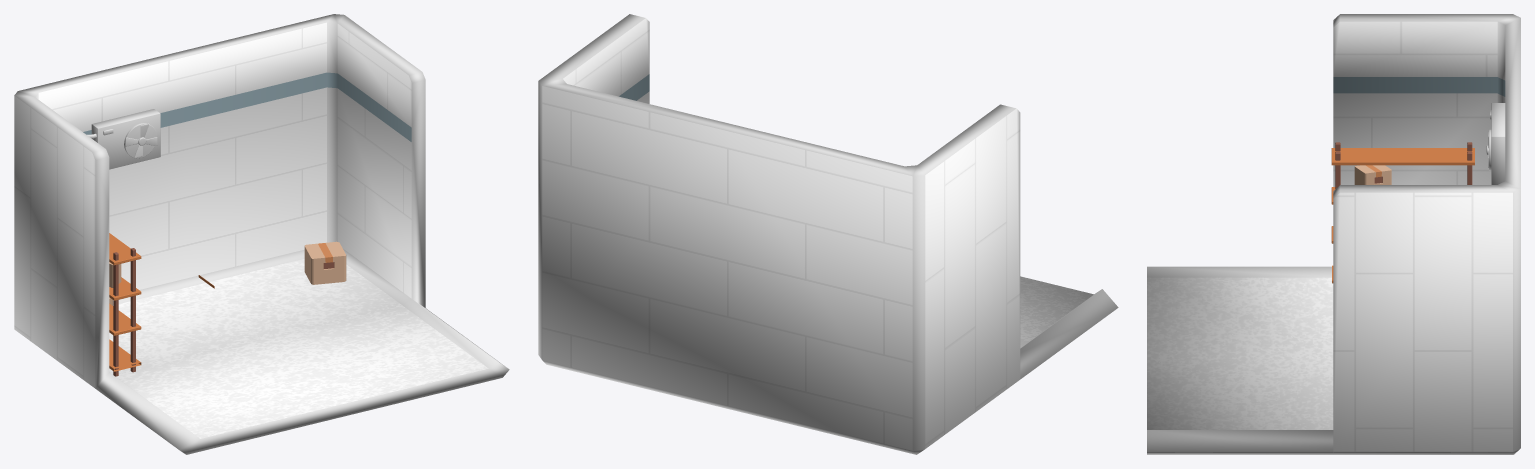
Rendered from Garage.fbx.
The picture shows the model from 3 angles, left to right: view 1: azimuth 30°, elevation 25°; view 2: azimuth 150°, elevation 25°; view 3: azimuth 270°, elevation 25°; orthographic projection. The views are drawn at different scales.
Parts seen in each view (by area): view 1: Garage; view 2: Garage; view 3: Garage.
Boxes of the visible parts, x1,y1,x2,y2 form: Garage: [14, 14, 509, 454]; Garage: [538, 14, 1118, 454]; Garage: [1147, 14, 1520, 454].
Size of the model in its own units: 1091 by 759 by 966.
